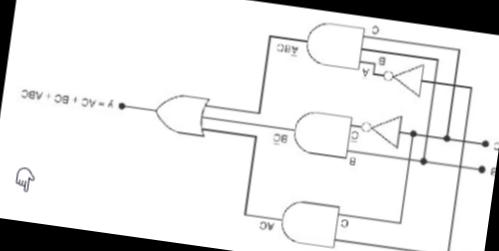and: (287, 102, 355, 166), (302, 9, 367, 75), (274, 190, 344, 249)
not: (358, 105, 408, 151), (379, 55, 426, 102)
or: (151, 82, 213, 139)
